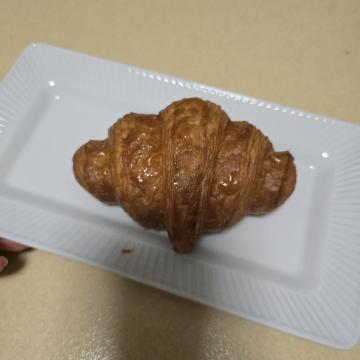croissant: (87, 53, 270, 304)
